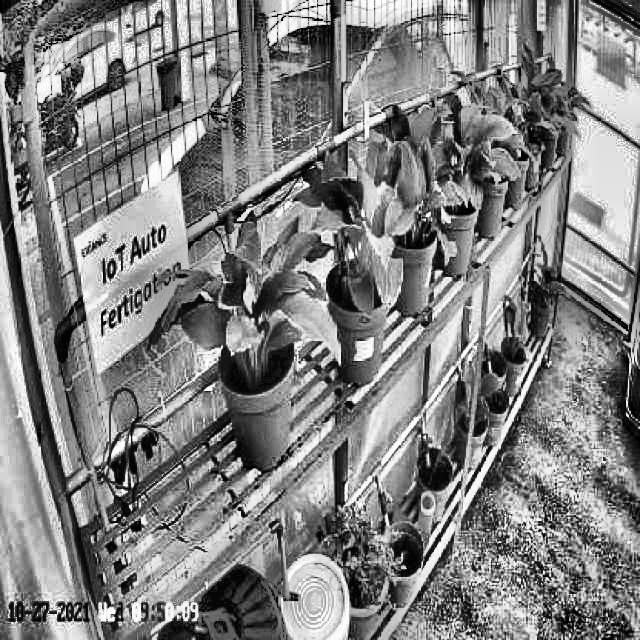plants: (144, 210, 341, 390), (293, 154, 402, 317), (360, 102, 458, 270), (426, 80, 522, 208)
